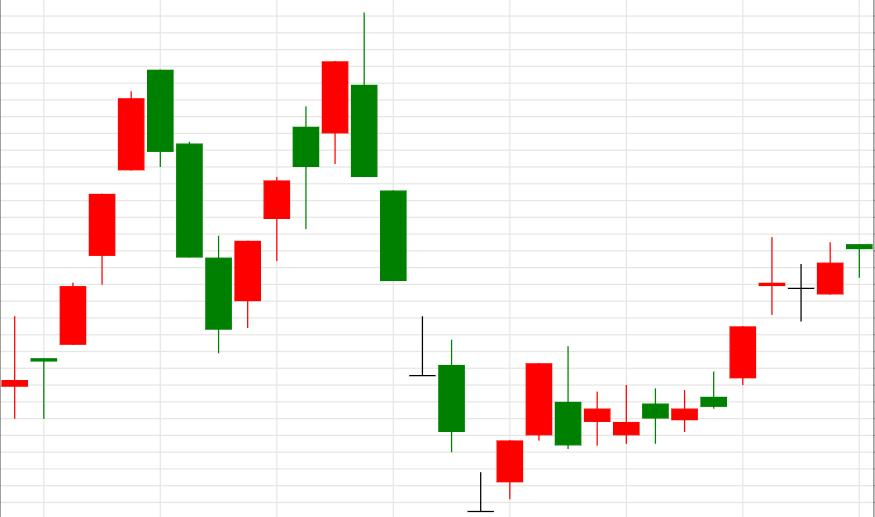three_black_crows_fall: (1, 69, 232, 418)
